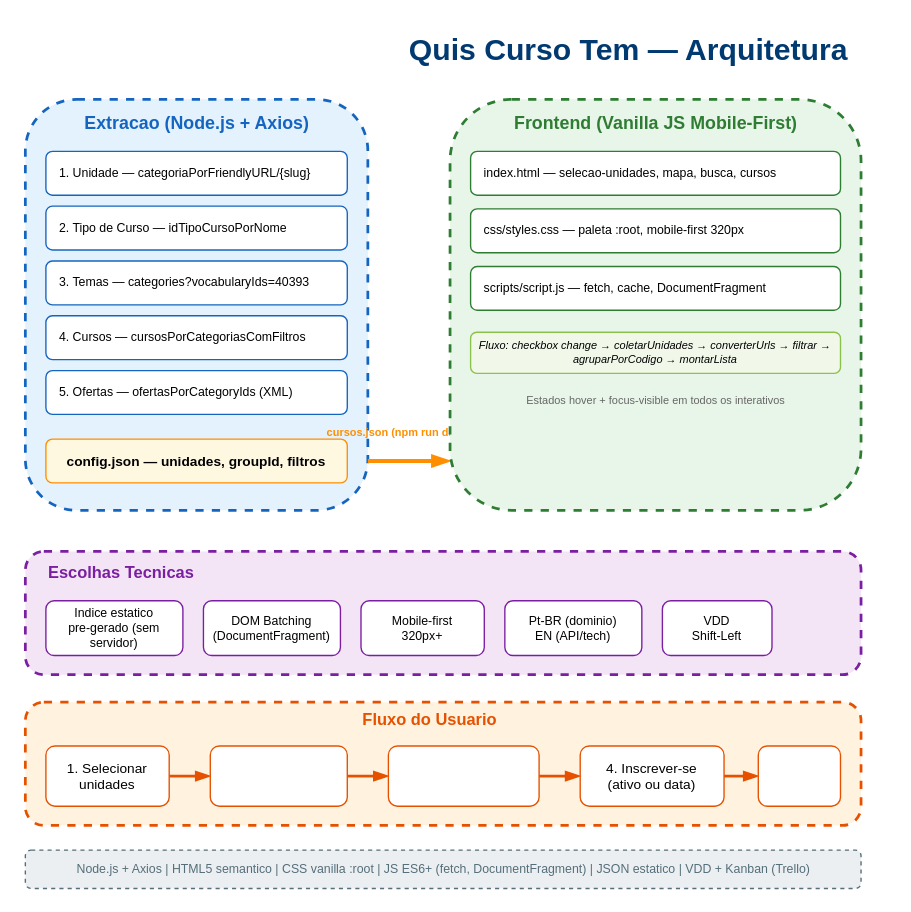
This 911x912 diagram has some shape labels left out. Here are the shapes that lost their labels. From the top down, the centre of each, then its label:
At (278,775): "2. Buscar (texto + tags)".
At (463,775): "3. Cards com nome + horarios".
At (798,775): "5. Portal sp.senac.br".
